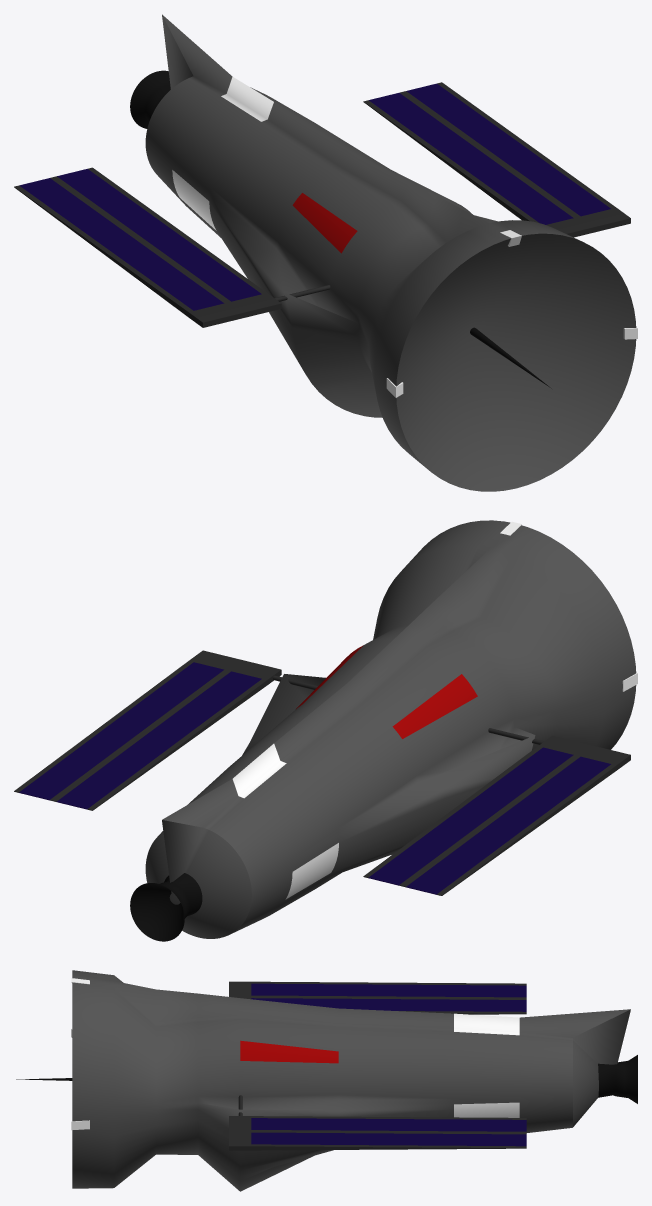
The model's file is NPC Beta Probe.FBX.
3 renders of one model, top to bottom at view 1: azimuth 30°, elevation 25°; view 2: azimuth 150°, elevation 25°; view 3: azimuth 270°, elevation 25°, orthographic. The views are drawn at different scales.
Parts seen in each view (by area): view 1: Main Hull, EngineUnit003, EngineUnit004, EngineUnit2, EngineUnit005, MainThruster; view 2: Main Hull, EngineUnit004, EngineUnit003, EngineUnit2, EngineUnit005, MainThruster; view 3: Main Hull, EngineUnit005, EngineUnit004, EngineUnit003, EngineUnit2, MainThruster.
Boxes of the visible parts, x1=… form: Main Hull: x1=145, y1=14, x2=636, y2=491; EngineUnit003: x1=14, y1=176, x2=243, y2=327; EngineUnit004: x1=363, y1=91, x2=589, y2=237; EngineUnit2: x1=55, y1=167, x2=281, y2=318; EngineUnit005: x1=404, y1=82, x2=630, y2=233; MainThruster: x1=130, y1=70, x2=170, y2=128; Main Hull: x1=145, y1=520, x2=636, y2=938; EngineUnit004: x1=51, y1=660, x2=281, y2=810; EngineUnit003: x1=401, y1=745, x2=630, y2=895; EngineUnit2: x1=363, y1=735, x2=592, y2=886; EngineUnit005: x1=14, y1=650, x2=243, y2=800; MainThruster: x1=130, y1=873, x2=202, y2=941; Main Hull: x1=72, y1=970, x2=630, y2=1191; EngineUnit005: x1=229, y1=1130, x2=526, y2=1150; EngineUnit004: x1=229, y1=1116, x2=526, y2=1133; EngineUnit003: x1=229, y1=981, x2=526, y2=999; EngineUnit2: x1=229, y1=996, x2=526, y2=1014; MainThruster: x1=598, y1=1055, x2=637, y2=1103.
Size of the model in its own units: 10.43 by 5.96 by 16.71.
